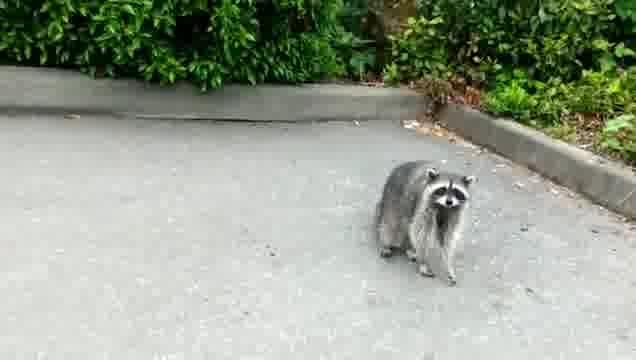raccoon: (377, 160, 478, 286)
